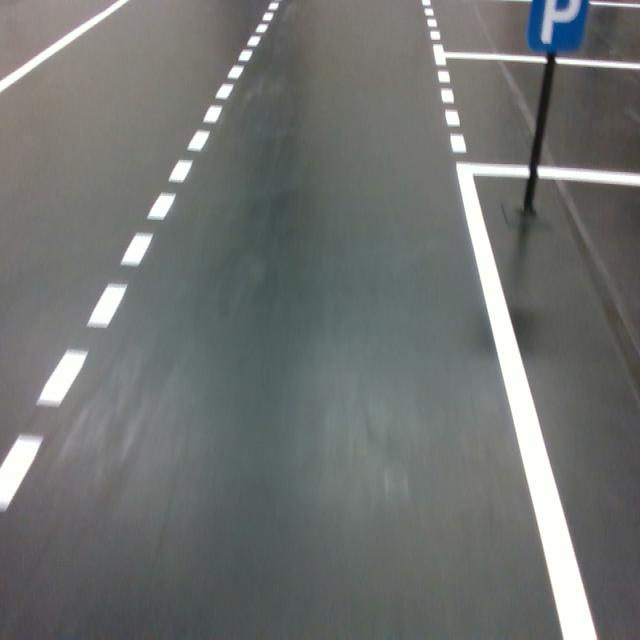parking-sign: (526, 0, 590, 54)
